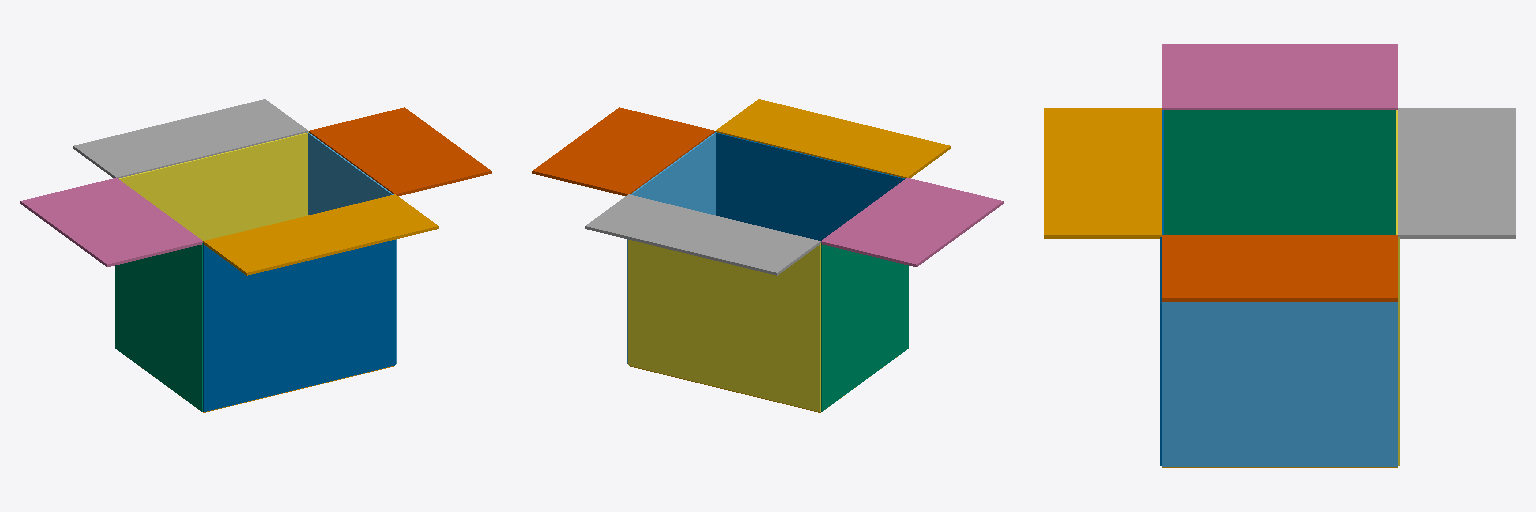
The robot description file, URDF, robot "cardboard_box":
<?xml version="1.0"?>
<robot
  name="cardboard_box">
  <link name="box_bottom">
    <visual>
      <geometry>
        <box size="0.345 0.27 0.005"/>
      </geometry>
    </visual>
    <collision>
      <geometry>
        <box size="0.345 0.27 0.005"/>
      </geometry>
      <origin xyz="0 0 0"/>
    </collision>
    <inertial>
      <mass value="0.2"/>
      <inertia ixx="0.01" ixy="0.0" ixz="0.0" iyy="0.01" iyz="0.0" izz="0.01"/>

      <origin xyz="0 0 0"/>
    </inertial>
  </link>


  <link name="box_wall_px">
    <visual>
      <geometry>
        <box size="0.005 0.27 0.29"/>
      </geometry>
    </visual>
    <collision>
      <geometry>
        <box size="0.005 0.27 0.29"/>
      </geometry>
      <origin xyz="0 0 0"/>
    </collision>
    <inertial>
      <mass value="0.1"/>
      <inertia ixx="0.01" ixy="0.0" ixz="0.0" iyy="0.01" iyz="0.0" izz="0.01"/>
      <origin xyz="0 0 0"/>
    </inertial>
  </link>
  <joint name="box_bottom_to_wall_px" type="fixed">
    <parent link="box_bottom"/>
    <child link="box_wall_px"/>
    <origin rpy="0 0 0" xyz="0.1725 0 0.145"/>
  </joint>

  <link name="box_wall_nx">
    <visual>
      <geometry>
        <box size="0.005 0.27 0.29"/>
      </geometry>
    </visual>
    <collision>
      <geometry>
        <box size="0.005 0.27 0.29"/>
      </geometry>
      <origin xyz="0 0 0"/>
    </collision>
    <inertial>
      <mass value="0.1"/>
      <inertia ixx="0.01" ixy="0.0" ixz="0.0" iyy="0.01" iyz="0.0" izz="0.01"/>
      <origin xyz="0 0 0"/>
    </inertial>
  </link>
  <joint name="box_bottom_to_wall_nx" type="fixed">
    <parent link="box_bottom"/>
    <child link="box_wall_nx"/>
    <origin rpy="0 0 0" xyz="-0.1725 0 0.145"/>
  </joint>

  <link name="box_wall_py">
    <visual>
      <geometry>
        <box size="0.345 0.005 0.29"/>
      </geometry>
    </visual>
    <collision>
      <geometry>
        <box size="0.345 0.005 0.29"/>
      </geometry>
      <origin xyz="0 0 0"/>
    </collision>
    <inertial>
      <mass value="0.1"/>
      <inertia ixx="0.01" ixy="0.0" ixz="0.0" iyy="0.01" iyz="0.0" izz="0.01"/>
      <origin xyz="0 0 0"/>
    </inertial>
  </link>
  <joint name="box_bottom_to_wall_py" type="fixed">
    <parent link="box_bottom"/>
    <child link="box_wall_py"/>
    <origin rpy="0 0 0" xyz="0 0.135 0.145"/>
  </joint>

  <link name="box_wall_ny">
    <visual>
      <geometry>
        <box size="0.345 0.005 0.29"/>
      </geometry>
    </visual>
    <collision>
      <geometry>
        <box size="0.345 0.005 0.29"/>
      </geometry>
      <origin xyz="0 0 0"/>
    </collision>
    <inertial>
      <mass value="0.1"/>
      <inertia ixx="0.01" ixy="0.0" ixz="0.0" iyy="0.01" iyz="0.0" izz="0.01"/>
      <origin xyz="0 0 0"/>
    </inertial>
  </link>
  <joint name="box_bottom_to_wall_ny" type="fixed">
    <parent link="box_bottom"/>
    <child link="box_wall_ny"/>
    <origin rpy="0 0 0" xyz="0 -0.135 0.145"/>
  </joint>

  <link name="box_lid_px">
    <visual>
      <geometry>
        <box size="0.1725 0.27 0.005"/>
      </geometry>
      <origin xyz="0.08625 0 0"/>
    </visual>
    <collision>
      <geometry>
        <box size="0.1725 0.27 0.005"/>
      </geometry>
      <origin xyz="0.08625 0 0"/>
    </collision>
    <inertial>
      <mass value="0.1"/>
      <inertia ixx="0.01" ixy="0.0" ixz="0.0" iyy="0.01" iyz="0.0" izz="0.01"/>
      <origin xyz="0.08625 0 0"/>
    </inertial>
  </link>
  <joint name="box_wall_px_to_box_lid_px" type="revolute">
    <parent link="box_wall_px"/>
    <child link="box_lid_px"/>
    <origin rpy="0 0 0" xyz="0 0 0.145"/>
    <axis xyz="0 1 0"/>
    <limit lower="-4.71" upper="1.57079632679" effort="1000" velocity="-1"/>
    <dynamics damping="0.00" friction="0.0"/>
  </joint>

  <link name="box_lid_nx">
    <visual>
      <geometry>
        <box size="0.1725 0.27 0.005"/>
      </geometry>
      <origin xyz="-0.08625 0 0"/>
    </visual>
    <collision>
      <geometry>
        <box size="0.1725 0.27 0.005"/>
      </geometry>
      <origin xyz="-0.08625 0 0"/>
    </collision>
    <inertial>
      <mass value="0.1"/>
      <inertia ixx="0.01" ixy="0.0" ixz="0.0" iyy="0.01" iyz="0.0" izz="0.01"/>
      <origin xyz="-0.08625 0 0"/>
    </inertial>
  </link>
  <joint name="box_wall_nx_to_box_lid_nx" type="revolute">
    <parent link="box_wall_nx"/>
    <child link="box_lid_nx"/>
    <origin rpy="0 0 0" xyz="0 0 0.145"/>
    <axis xyz="0 -1 0"/>
    <limit lower="-4.71" upper="1.57079632679" effort="1000" velocity="-1"/>
    <dynamics damping="0.00" friction="0.0"/>
  </joint>

  <link name="box_lid_py">
    <visual>
      <geometry>
        <box size="0.345 0.135 0.005"/>
      </geometry>
      <origin xyz="0 0.0675 0"/>
    </visual>
    <collision>
      <geometry>
        <box size="0.345 0.135 0.005"/>
      </geometry>
      <origin xyz="0 0.0675 0"/>
    </collision>
    <inertial>
      <mass value="0.1"/>
      <inertia ixx="0.01" ixy="0.0" ixz="0.0" iyy="0.01" iyz="0.0" izz="0.01"/>
      <origin xyz="0 0.0675 0"/>
    </inertial>
  </link>
  <joint name="box_wall_py_to_box_lid_py" type="revolute">
    <parent link="box_wall_py"/>
    <child link="box_lid_py"/>
    <origin rpy="0 0 0" xyz="0 0 0.145"/>
    <axis xyz="-1 0 0"/>
    <limit lower="-4.71" upper="1.57079632679" effort="1000" velocity="-1"/>
    <dynamics damping="0.00" friction="0.0"/>
  </joint>

  <link name="box_lid_ny">
    <visual>
      <geometry>
        <box size="0.345 0.135 0.005"/>
      </geometry>
      <origin xyz="0 -0.0675 0"/>
    </visual>
    <collision>
      <geometry>
        <box size="0.345 0.135 0.005"/>
      </geometry>
      <origin xyz="0 -0.0675 0"/>
    </collision>
    <inertial>
      <mass value="0.1"/>
      <inertia ixx="0.01" ixy="0.0" ixz="0.0" iyy="0.01" iyz="0.0" izz="0.01"/>
      <origin xyz="0 -0.0675 0"/>
    </inertial>
  </link>
  <joint name="box_wall_ny_to_box_lid_ny" type="revolute">
    <parent link="box_wall_ny"/>
    <child link="box_lid_ny"/>
    <origin rpy="0 0 0" xyz="0 0 0.145"/>
    <axis xyz="1 0 0"/>
    <limit lower="-4.71" upper="1.57079632679" effort="1000" velocity="-1"/>
    <dynamics damping="0.00" friction="0.0"/>
  </joint>

</robot>


  

--- Facts derived from the render (not from the file) ---
The picture shows the robot from 3 angles, left to right: view 1: azimuth 30°, elevation 25°; view 2: azimuth 150°, elevation 25°; view 3: azimuth 270°, elevation 25°; orthographic projection.
Robot: cardboard_box — 9 links, 8 joints (4 revolute, 4 fixed); root link box_bottom; default pose: every joint at zero.
Visible links, largest first — view 1: box_wall_ny, box_wall_py, box_wall_nx, box_lid_ny, box_lid_nx, box_lid_px, box_lid_py, box_wall_px; view 2: box_wall_py, box_wall_ny, box_wall_nx, box_lid_py, box_lid_nx, box_lid_px, box_lid_ny, box_wall_px; view 3: box_wall_px, box_wall_nx, box_lid_px, box_lid_nx, box_lid_py, box_lid_ny, box_wall_ny, box_wall_py.
Link boxes in pixels (bbox=[...]): box_wall_ny: bbox=[203, 240, 395, 411]; box_wall_py: bbox=[119, 132, 308, 240]; box_wall_nx: bbox=[115, 243, 202, 411]; box_lid_ny: bbox=[203, 194, 438, 275]; box_lid_nx: bbox=[20, 178, 202, 266]; box_lid_px: bbox=[309, 107, 491, 195]; box_lid_py: bbox=[73, 99, 308, 178]; box_wall_px: bbox=[307, 132, 396, 363]; box_wall_py: bbox=[628, 240, 820, 411]; box_wall_ny: bbox=[715, 132, 904, 240]; box_wall_nx: bbox=[821, 243, 908, 411]; box_lid_py: bbox=[585, 194, 820, 275]; box_lid_nx: bbox=[821, 178, 1003, 266]; box_lid_px: bbox=[532, 107, 714, 195]; box_lid_ny: bbox=[715, 99, 950, 178]; box_wall_px: bbox=[627, 132, 716, 363]; box_wall_px: bbox=[1162, 302, 1397, 466]; box_wall_nx: bbox=[1164, 110, 1395, 234]; box_lid_px: bbox=[1162, 235, 1397, 301]; box_lid_nx: bbox=[1162, 44, 1397, 109]; box_lid_py: bbox=[1398, 108, 1515, 238]; box_lid_ny: bbox=[1044, 108, 1161, 238]; box_wall_ny: bbox=[1160, 110, 1163, 465]; box_wall_py: bbox=[1396, 110, 1399, 465].
Size in the robot's own frame: 0.69 by 0.54 by 0.295 metres.
Geometry: primitives only (box / cylinder / sphere), no mesh files.